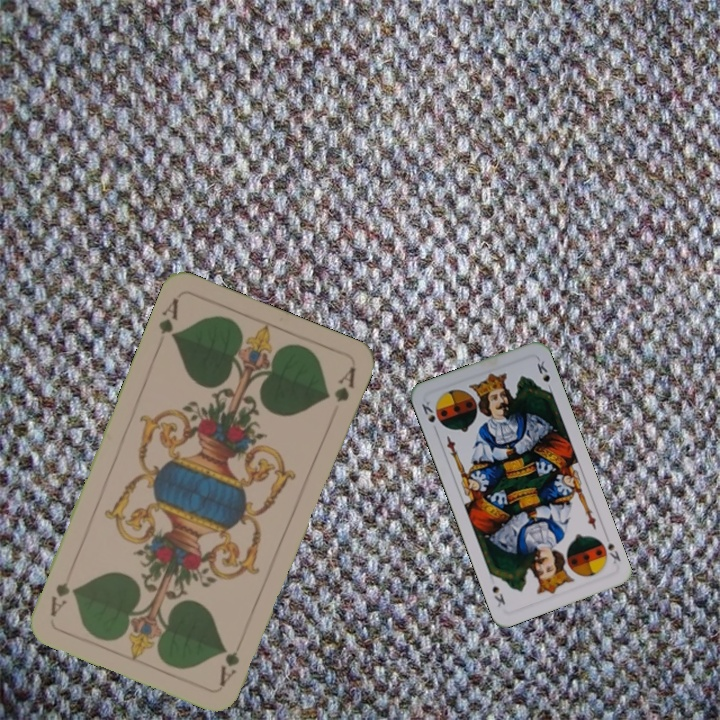GA: (154, 294, 182, 342), (215, 647, 242, 689)
SK: (417, 397, 440, 436), (603, 539, 623, 566)
